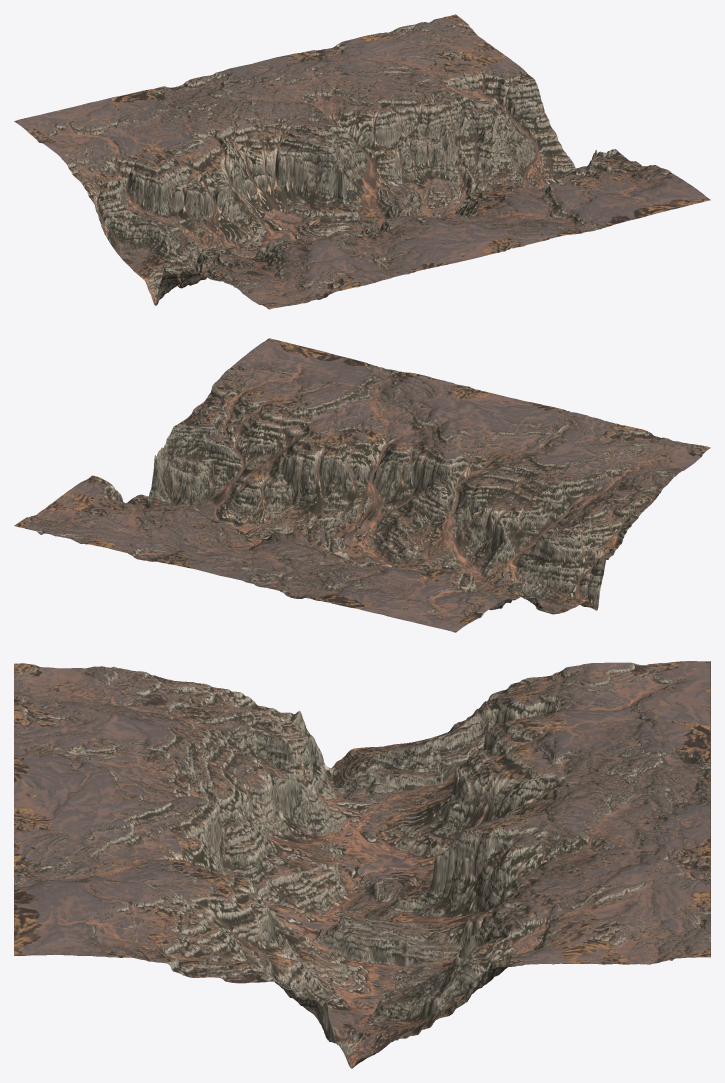
Rendered from white_canyon_terrain_optimized.glb.
3 views of the same model, one above another, from view 1: azimuth 30°, elevation 25°; view 2: azimuth 150°, elevation 25°; view 3: azimuth 270°, elevation 25° (orthographic). The views are drawn at different scales.
Visible parts, largest first — view 1: Object_2; view 2: Object_2; view 3: Object_2.
Boxes of the visible parts, <box> form: Object_2: <box>14,14,710,309</box>; Object_2: <box>14,338,710,632</box>; Object_2: <box>14,661,710,1068</box>.
Size of the model in its own units: 2 by 0.3613 by 2.
Materials: 1 (1 with a texture image).
